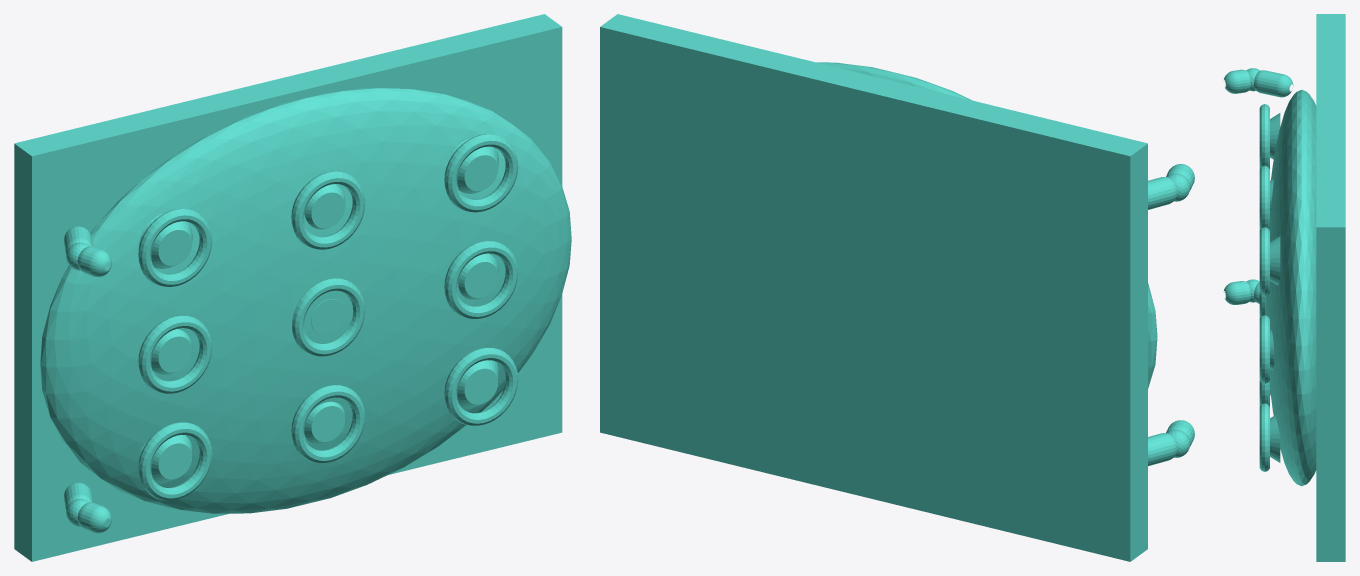
File: dranmar_microcup_pad.glb
3 renders of one model, left to right at view 1: azimuth 30°, elevation 25°; view 2: azimuth 150°, elevation 25°; view 3: azimuth 270°, elevation 25°, orthographic. The views are drawn at different scales.
Visible parts, largest first — view 1: pad; view 2: pad; view 3: pad.
Boxes of the visible parts, left/top/right/bottom form: pad: left=14, top=14, right=571, bottom=561; pad: left=600, top=14, right=1194, bottom=561; pad: left=1223, top=14, right=1345, bottom=561.
Size of the model in its own units: 0.0522 by 0.038 by 0.0126.
